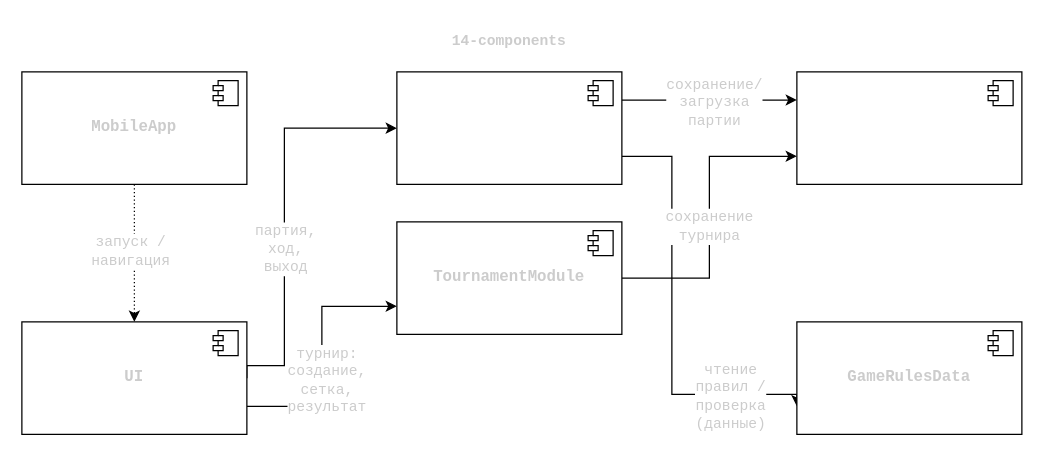
Some shapes in this 1044 by 456 pixel diagram are drawn without their labels. Each missing label, with the centre of its shape:
"GameApplication" belongs at (x=509, y=127).
"Persistence" belongs at (x=909, y=127).
